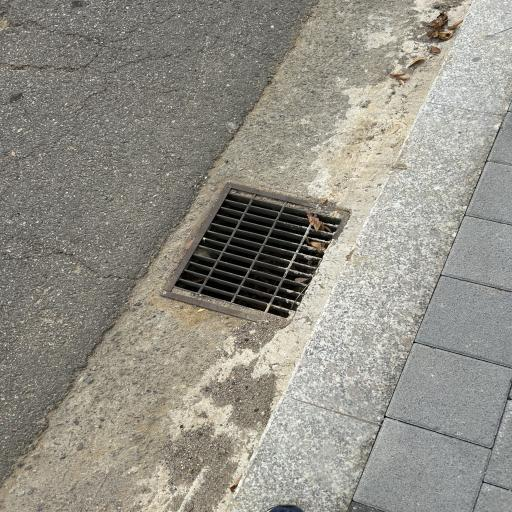debris: (308, 212, 327, 231), (304, 241, 325, 253), (294, 277, 307, 283)
drain: (163, 184, 346, 328)
